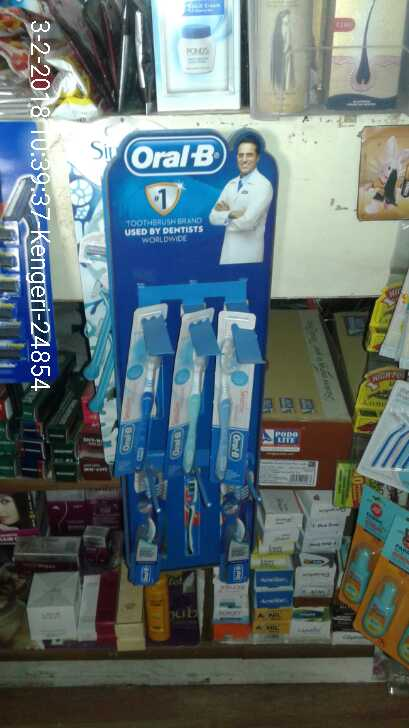oralb: (211, 342, 252, 487), (126, 329, 159, 480), (179, 342, 213, 478)
